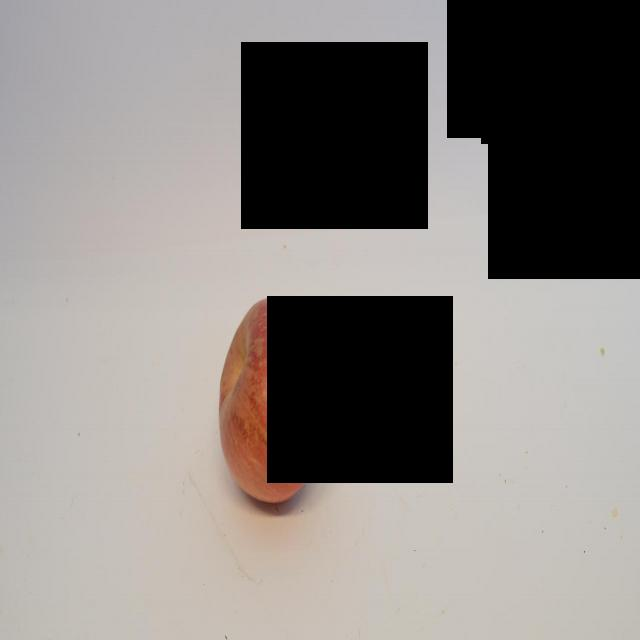apple: (218, 282, 333, 518)
